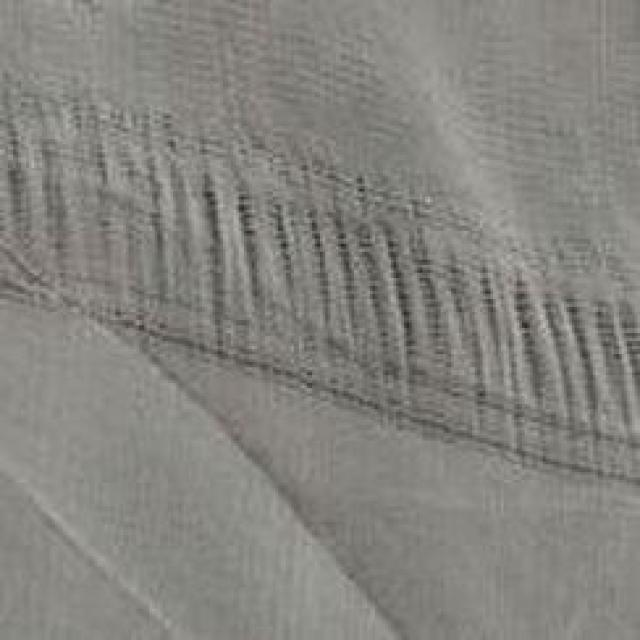Thread_other: (8, 1, 640, 573)
